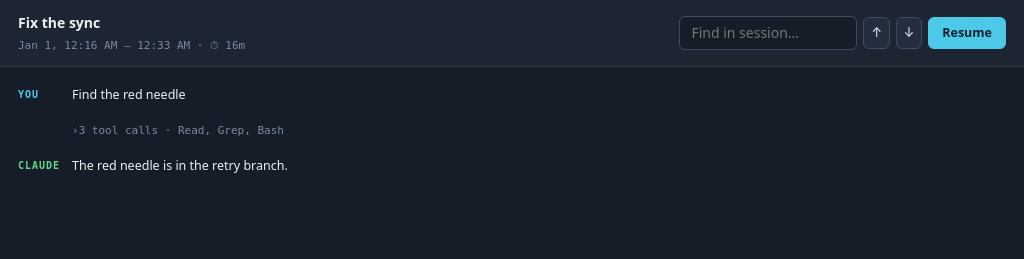
Test: TranscriptViewer resume action › keeps a tool batch collapsed until it is explicitly expanded
The width and height of the screenshot is (1024, 259).
Click the button with class "ix-transcript__tool-toggle". click: (178, 131)
box: top-left (72, 119), bottom-right (284, 142)
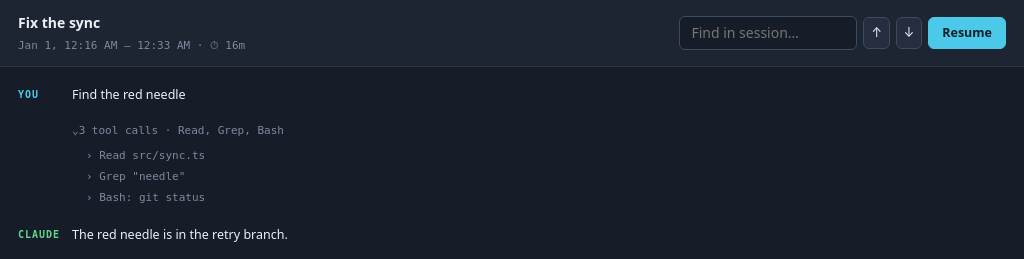
Expected: the element with class "ix-transcript__tool-list" shows "Bash: git status", top-left (99, 191), bottom-right (205, 204)
